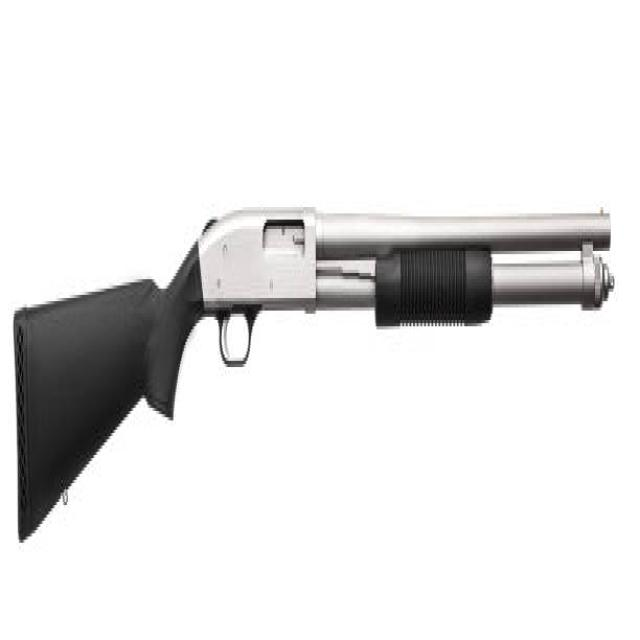rifle: (14, 192, 619, 561)
